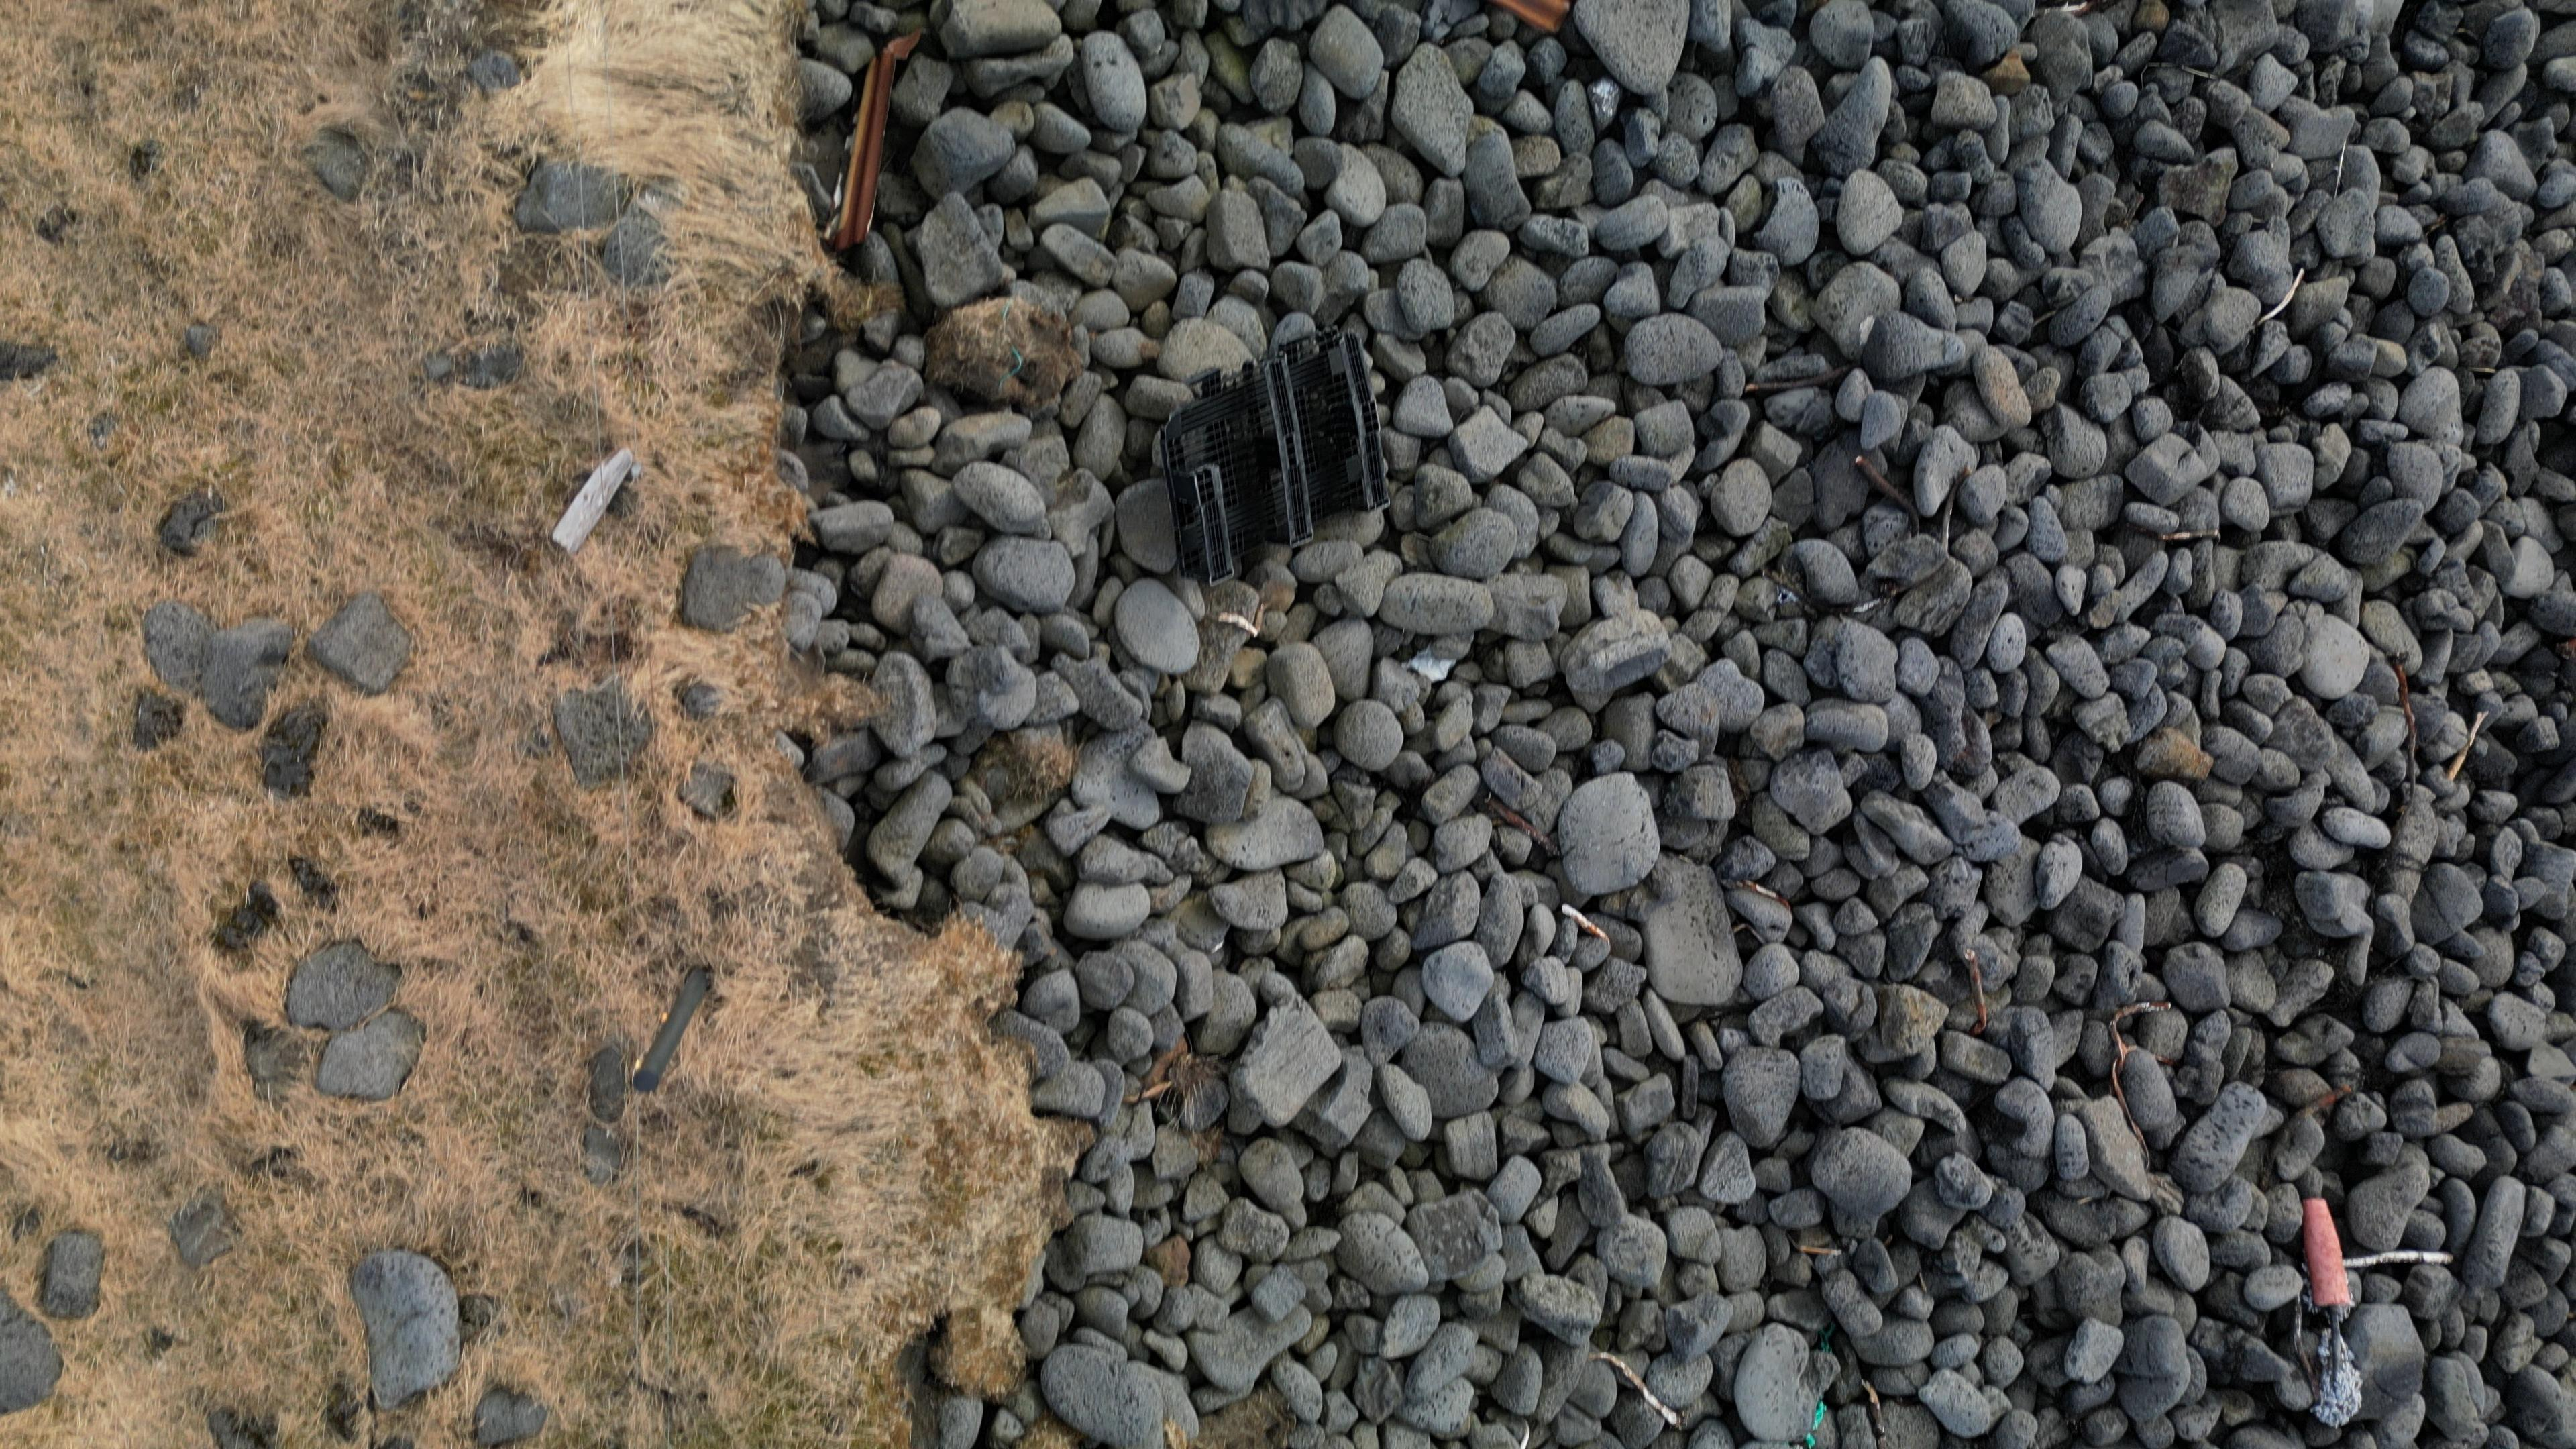trash: (1162, 332, 1389, 569), (830, 35, 920, 252)
